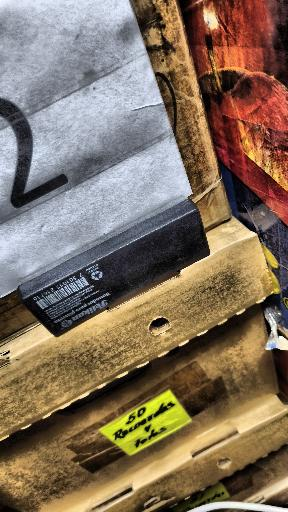borrador: (18, 192, 210, 336)
